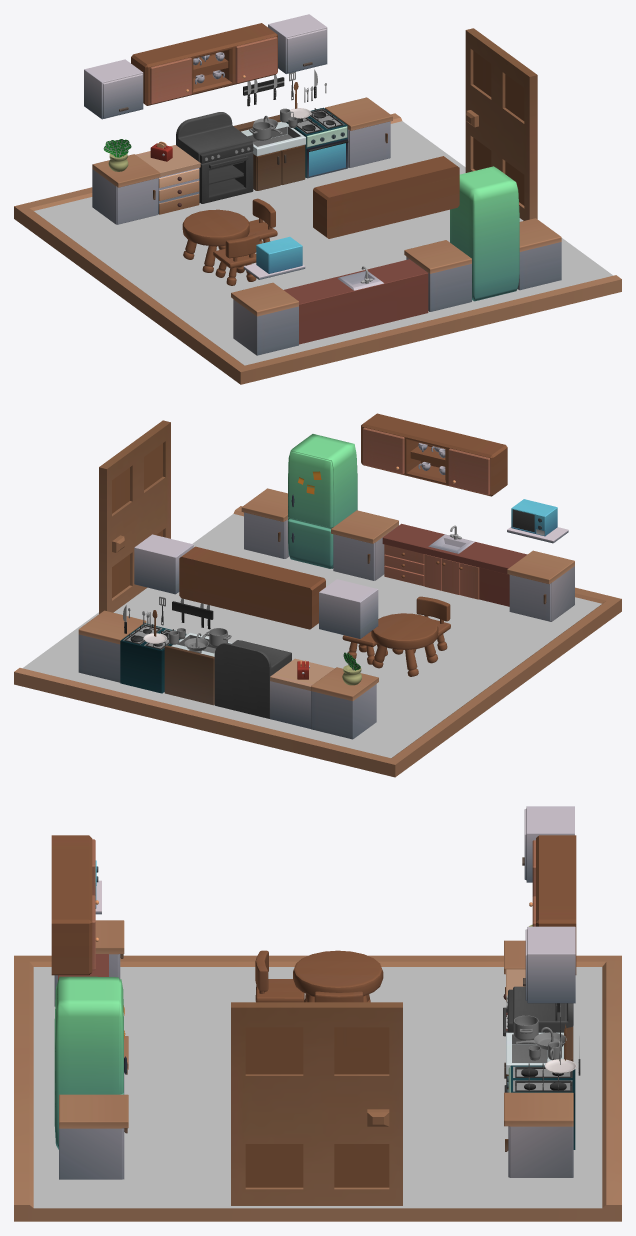
The model's file is COCINA.fbx.
The picture shows the model from 3 angles, top to bottom: view 1: azimuth 30°, elevation 25°; view 2: azimuth 150°, elevation 25°; view 3: azimuth 270°, elevation 25°; orthographic projection. The views are drawn at different scales.
Visible parts, largest first — view 1: suelo5, muebles_cocina_2, mueble_cocina_3, muebles_cocina_paret1, puerta15, mueble_paret_3, nevera1, mesa_con_cadiras1, micro1, decor_cocina1, cosas_para_cocinar1, planta_cocina1; view 2: suelo5, muebles_cocina_2, mueble_cocina_3, muebles_cocina_paret1, puerta15, mueble_paret_3, nevera1, mesa_con_cadiras1, micro1, decor_cocina1, cosas_para_cocinar1; view 3: suelo5, puerta15, muebles_cocina_2, muebles_cocina_paret1, nevera1, mueble_cocina_3, mueble_paret_3, mesa_con_cadiras1, cosas_para_cocinar1, decor_cocina1.
Boxes of the visible parts, bbox=[...] form: suelo5: bbox=[14, 113, 621, 384]; muebles_cocina_2: bbox=[92, 97, 392, 224]; mueble_cocina_3: bbox=[231, 218, 561, 355]; muebles_cocina_paret1: bbox=[84, 14, 327, 119]; puerta15: bbox=[465, 28, 537, 220]; mueble_paret_3: bbox=[313, 156, 459, 238]; nevera1: bbox=[450, 166, 519, 301]; mesa_con_cadiras1: bbox=[182, 198, 277, 285]; micro1: bbox=[243, 236, 305, 279]; decor_cocina1: bbox=[243, 69, 326, 118]; cosas_para_cocinar1: bbox=[249, 108, 297, 140]; planta_cocina1: bbox=[103, 139, 131, 171]; suelo5: bbox=[14, 506, 621, 777]; muebles_cocina_2: bbox=[78, 610, 378, 739]; mueble_cocina_3: bbox=[241, 488, 574, 621]; muebles_cocina_paret1: bbox=[134, 534, 378, 638]; puerta15: bbox=[99, 420, 170, 613]; mueble_paret_3: bbox=[361, 413, 507, 496]; nevera1: bbox=[288, 434, 357, 568]; mesa_con_cadiras1: bbox=[342, 596, 450, 676]; micro1: bbox=[507, 499, 568, 543]; decor_cocina1: bbox=[123, 596, 213, 643]; cosas_para_cocinar1: bbox=[168, 628, 231, 653]; suelo5: bbox=[14, 955, 621, 1221]; puerta15: bbox=[231, 1002, 402, 1205]; muebles_cocina_2: bbox=[503, 940, 575, 1177]; muebles_cocina_paret1: bbox=[522, 806, 576, 1003]; nevera1: bbox=[54, 976, 127, 1149]; mueble_cocina_3: bbox=[54, 920, 128, 1179]; mueble_paret_3: bbox=[51, 835, 98, 975]; mesa_con_cadiras1: bbox=[255, 950, 383, 1002]; cosas_para_cocinar1: bbox=[513, 1015, 566, 1060]; decor_cocina1: bbox=[544, 1003, 580, 1075].
Size of the model in its own units: 899 by 354 by 918.
